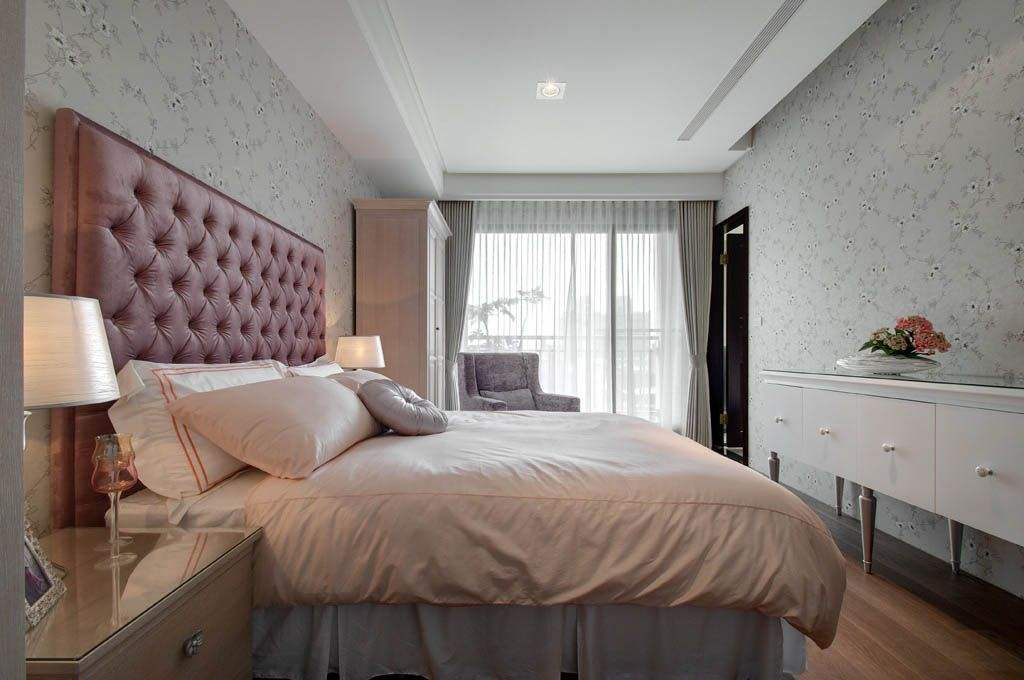床: (144, 412, 834, 659)
枕头: (126, 356, 451, 487)
灯: (20, 292, 121, 427), (330, 334, 383, 375), (529, 77, 564, 104)
